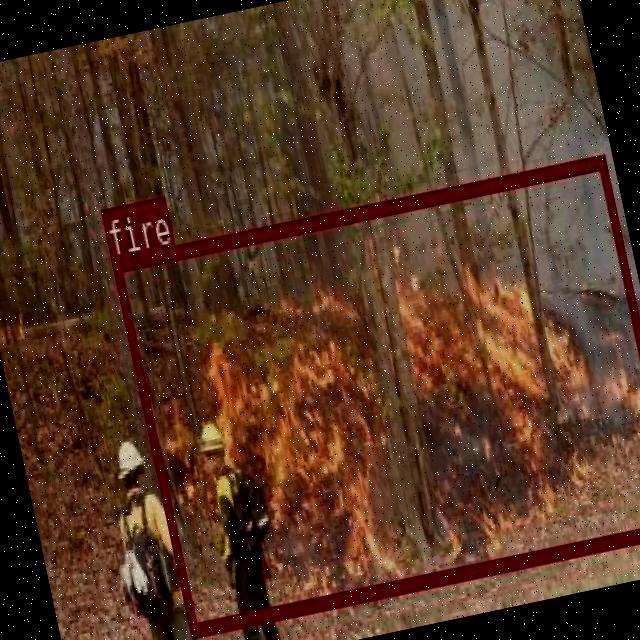fire: (109, 152, 640, 635)
